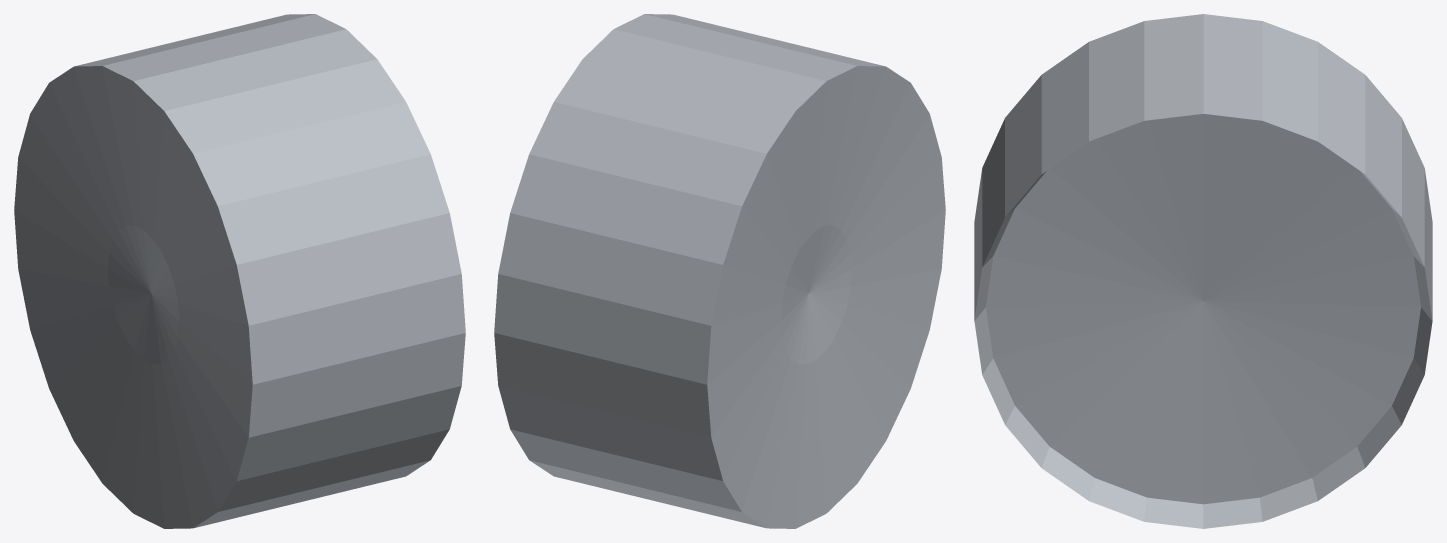
The model's file is wheel_FL.glb.
3 renders of one model, left to right at view 1: azimuth 30°, elevation 25°; view 2: azimuth 150°, elevation 25°; view 3: azimuth 270°, elevation 25°, orthographic. The views are drawn at different scales.
Visible parts, largest first — view 1: wheel_FL; view 2: wheel_FL; view 3: wheel_FL.
Part boxes in pixels (left/top/right/bottom): wheel_FL: left=14, top=14, right=465, bottom=528; wheel_FL: left=494, top=14, right=945, bottom=528; wheel_FL: left=974, top=14, right=1432, bottom=528.
Bounding box in the file's own units: 0.2226 × 0.4318 × 0.4318.
Materials: 1 (1 with a texture image).
